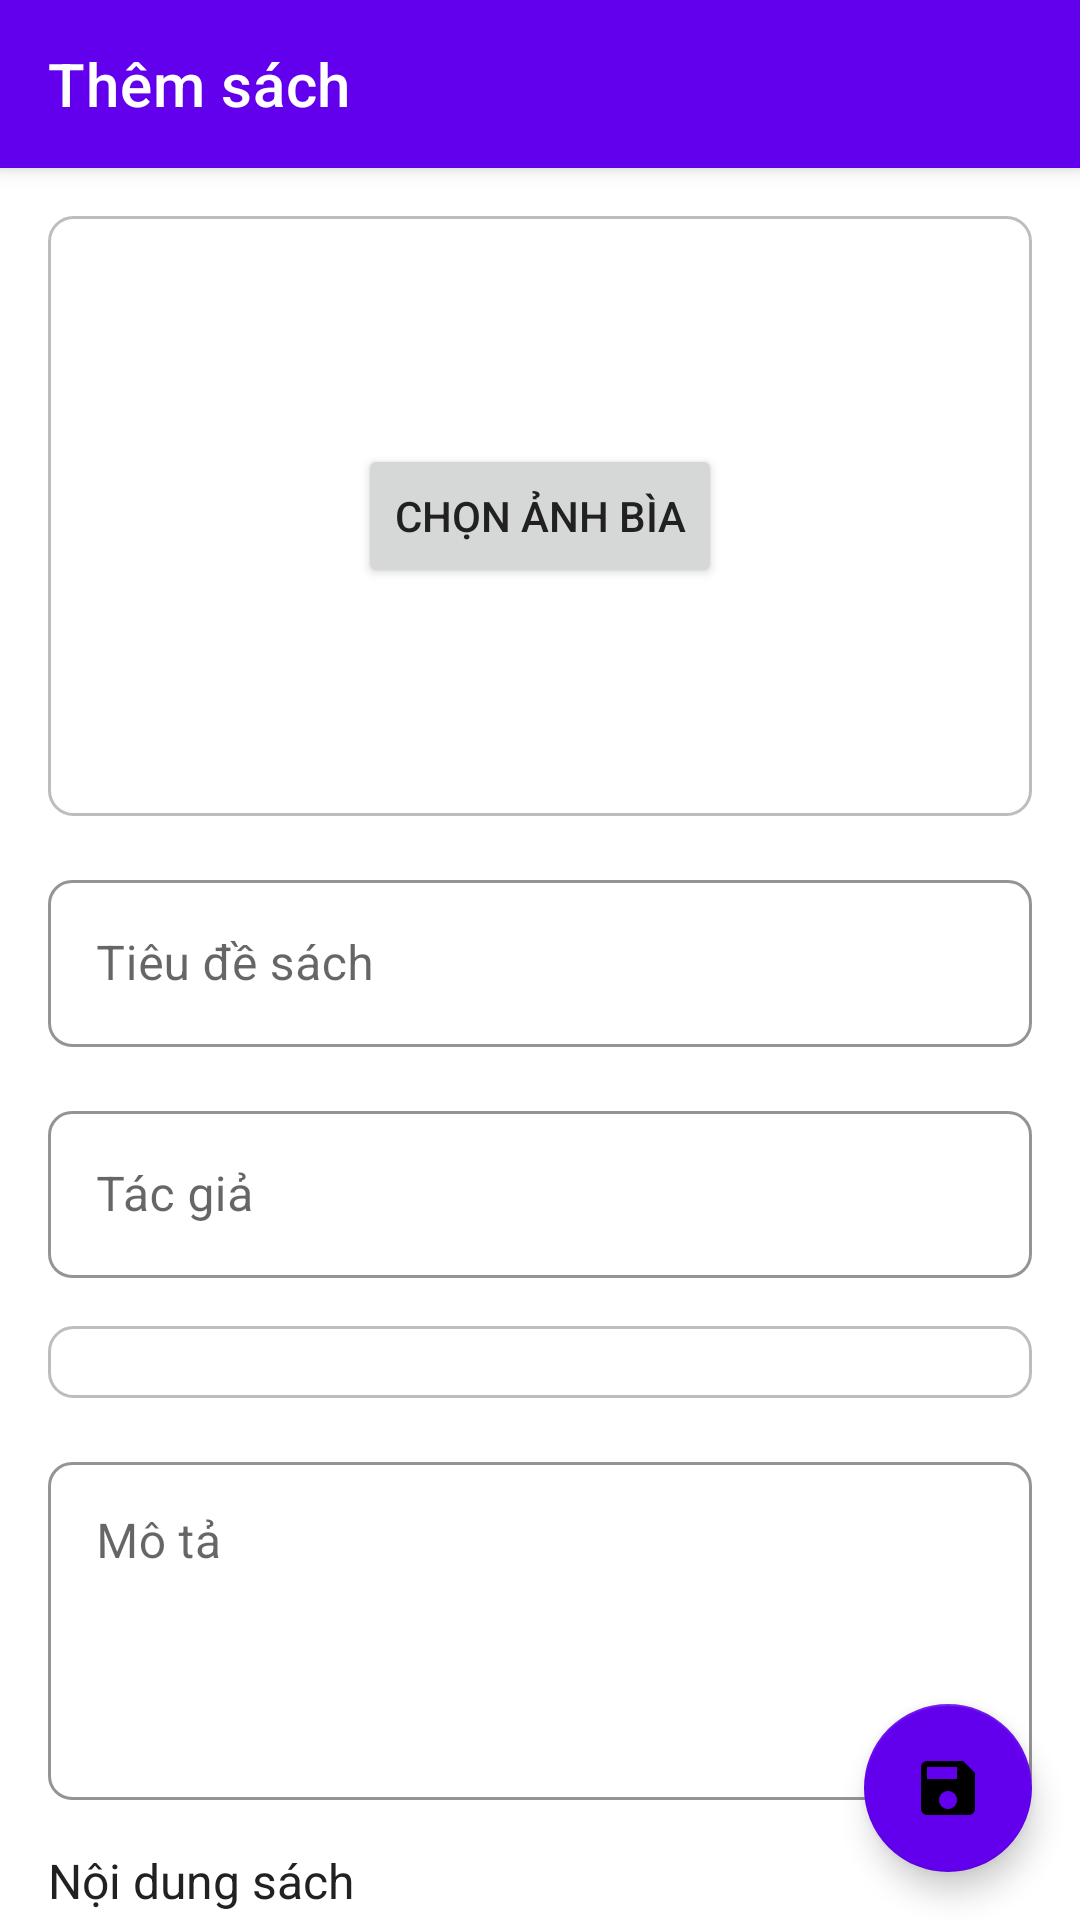

Named icons in this screenshot (1080x1920) and their bounding boxes, (x1, y1, x2, y2):
save: (864, 1704, 1032, 1872)
